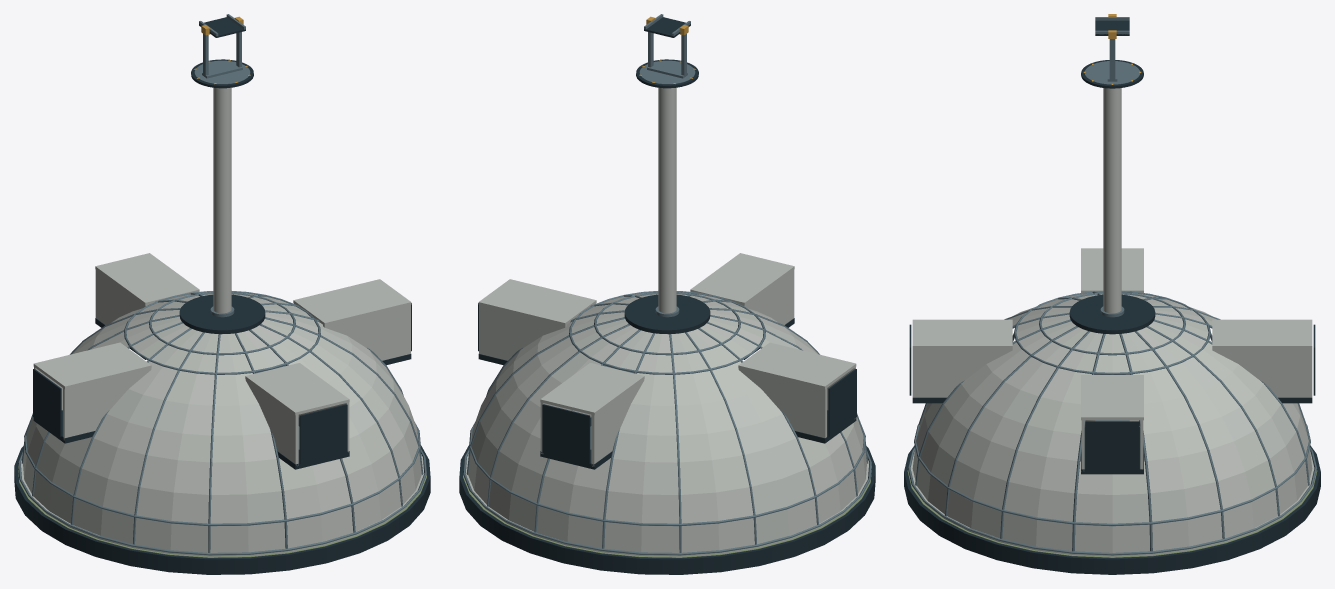
The model's file is logistics_d0_lod1.glb.
3 renders of one model, left to right at view 1: azimuth 30°, elevation 25°; view 2: azimuth 150°, elevation 25°; view 3: azimuth 270°, elevation 25°, orthographic.
Parts seen in each view (by area): view 1: SHELL, BODY, PORT_CAP_N, PORT_CAP_W, FORK, CRADLE; view 2: SHELL, BODY, PORT_CAP_S, PORT_CAP_W, FORK, CRADLE; view 3: SHELL, BODY, PORT_CAP_E, CRADLE.
Part boxes in pixels (x1=…): SHELL: x1=23, y1=292, x2=421, y2=552; BODY: x1=14, y1=59, x2=430, y2=574; PORT_CAP_N: x1=299, y1=404, x2=347, y2=463; PORT_CAP_W: x1=33, y1=369, x2=61, y2=436; FORK: x1=201, y1=16, x2=243, y2=78; CRADLE: x1=199, y1=14, x2=245, y2=37; SHELL: x1=468, y1=292, x2=866, y2=552; BODY: x1=459, y1=59, x2=875, y2=574; PORT_CAP_S: x1=542, y1=404, x2=590, y2=463; PORT_CAP_W: x1=828, y1=369, x2=856, y2=436; FORK: x1=646, y1=16, x2=688, y2=78; CRADLE: x1=644, y1=14, x2=690, y2=37; SHELL: x1=912, y1=293, x2=1312, y2=552; BODY: x1=904, y1=60, x2=1320, y2=574; PORT_CAP_E: x1=1085, y1=421, x2=1139, y2=469; CRADLE: x1=1095, y1=17, x2=1129, y2=35.
Bounding box in the file's own units: 29.2 × 35.85 × 29.2.
